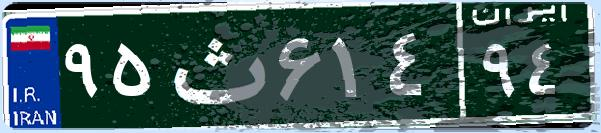1: (330, 28, 385, 110)
4: (385, 28, 445, 110), (525, 38, 570, 115)
5: (110, 28, 158, 105)
6: (273, 28, 330, 110)
9: (57, 26, 110, 107), (475, 38, 525, 113)
ث: (158, 15, 273, 115)
